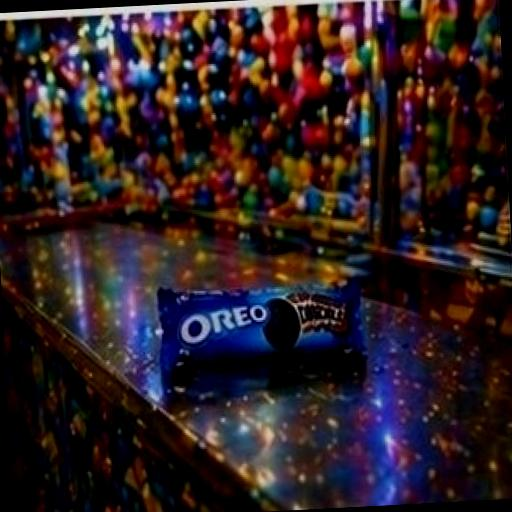oreo: (119, 195, 421, 433)
